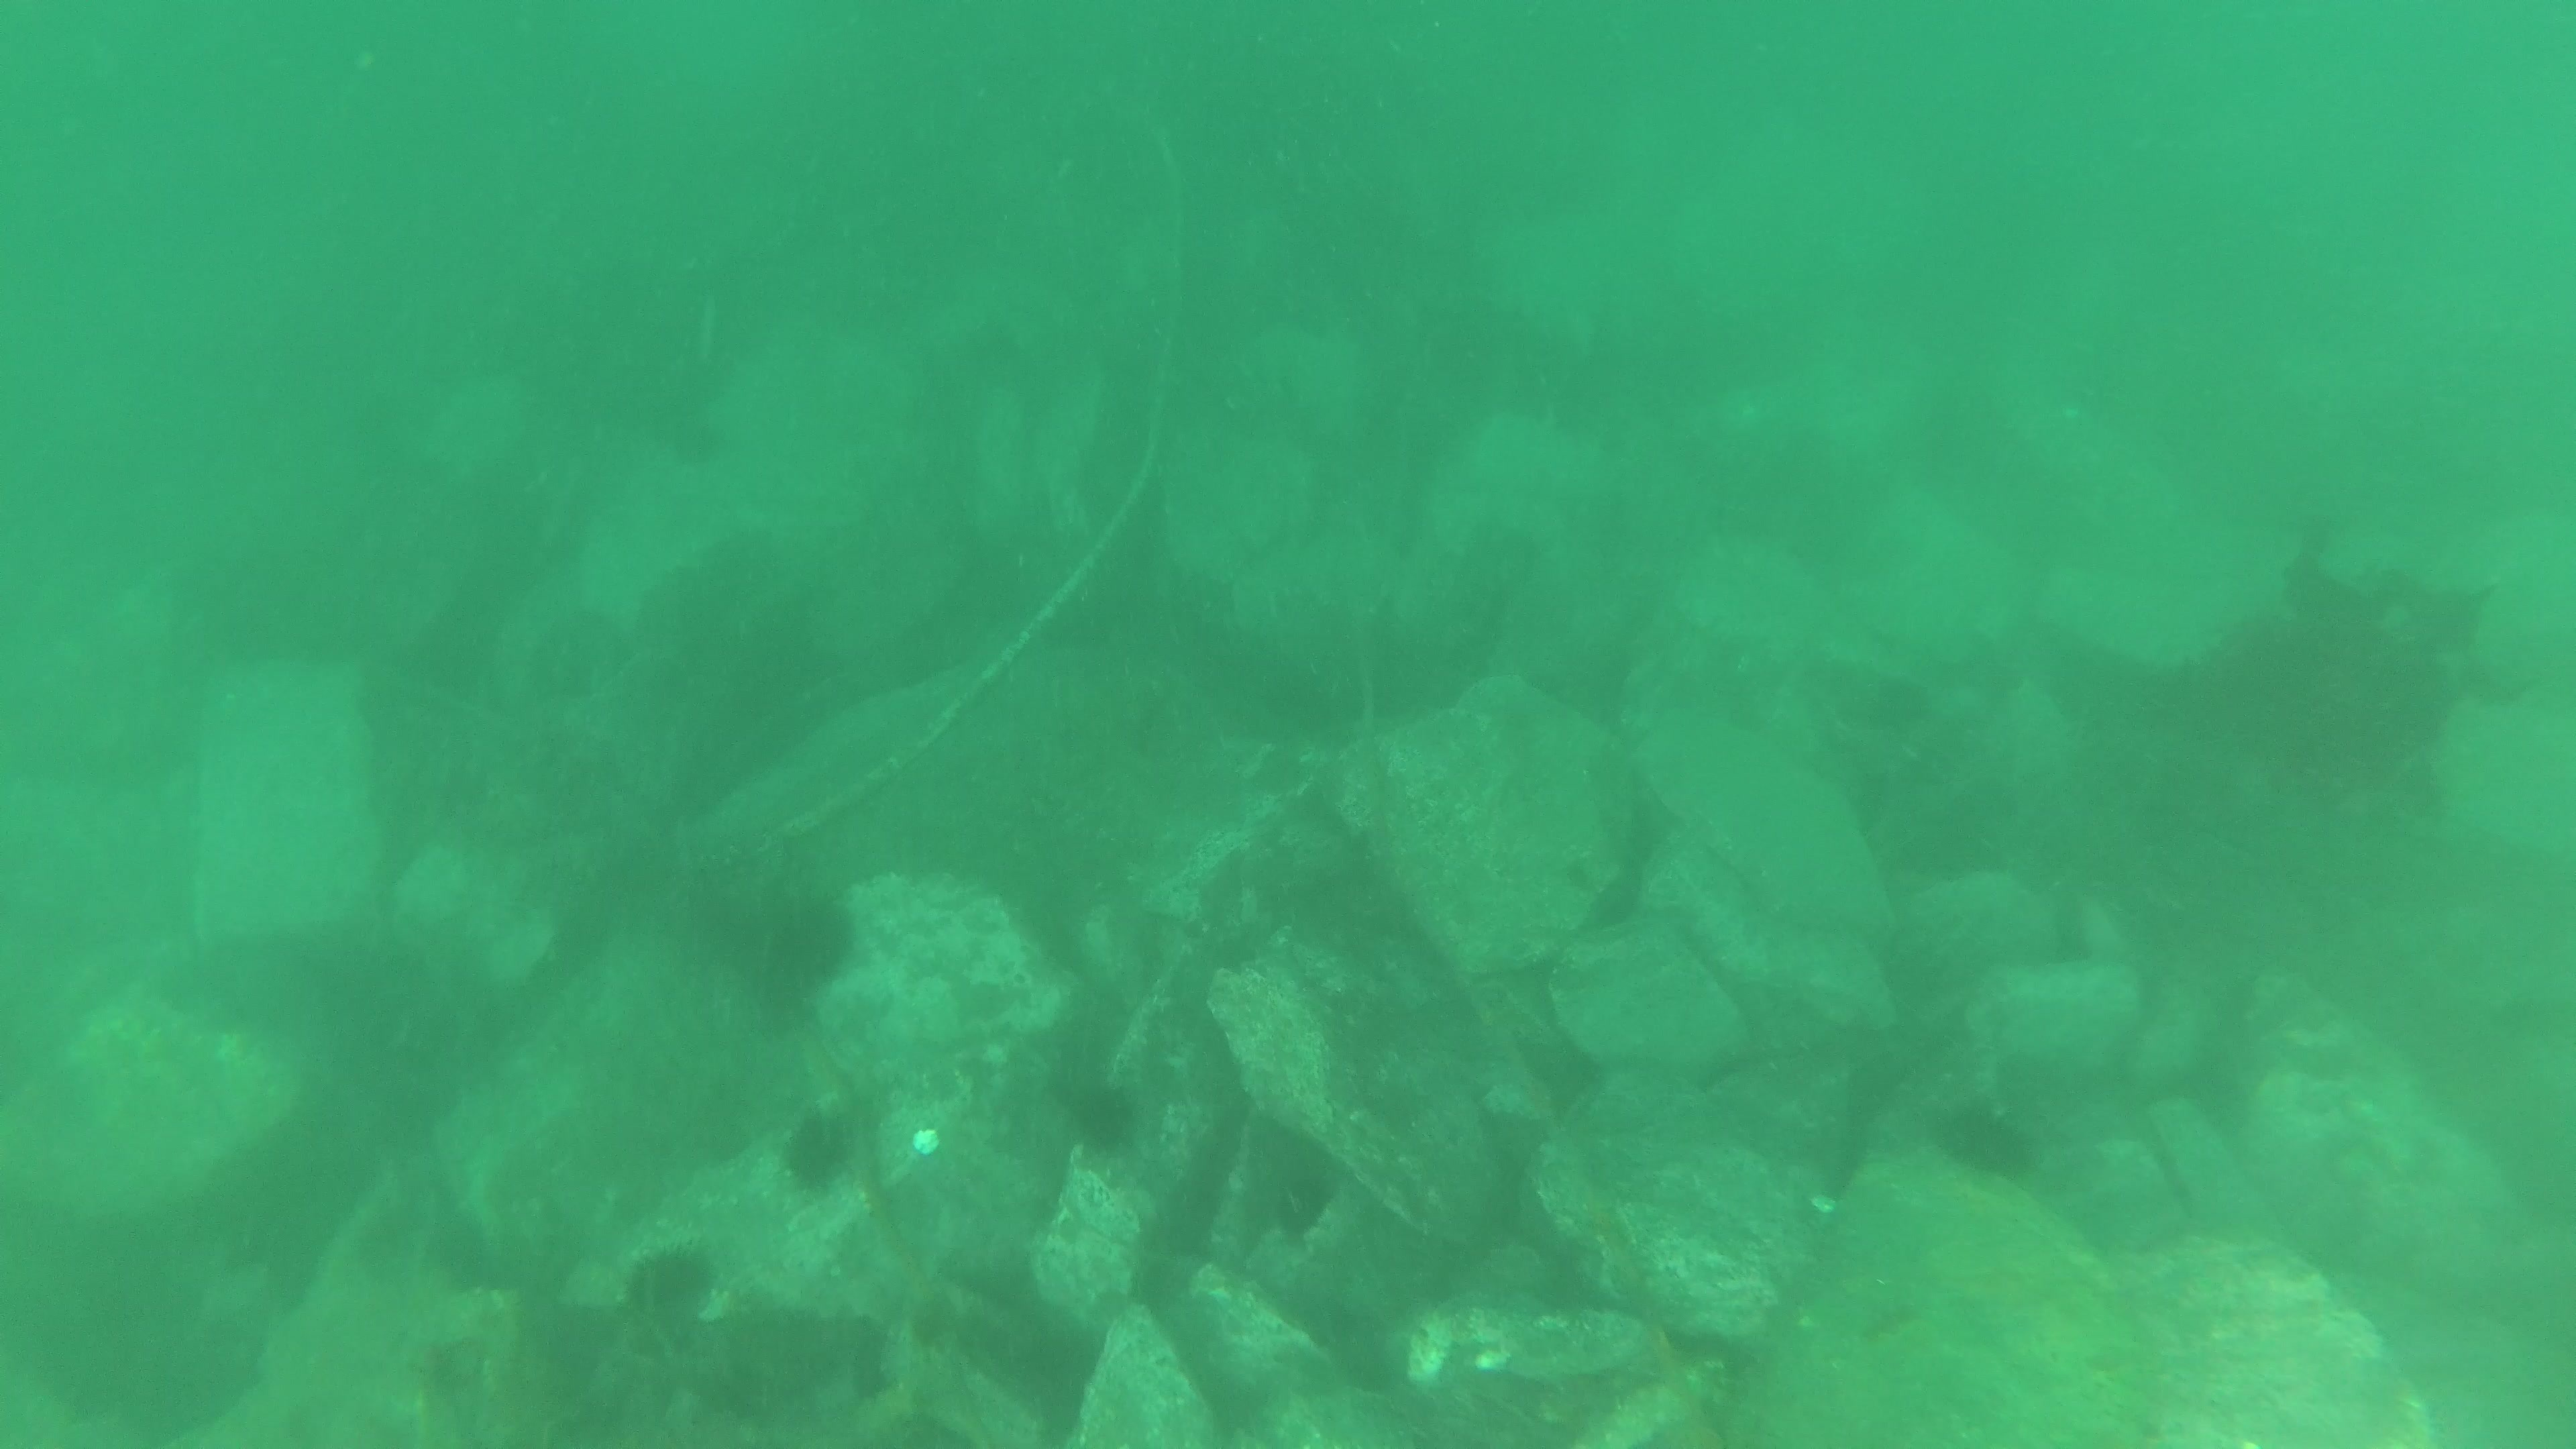echinus: (747, 883, 863, 1005), (1932, 1093, 2043, 1185), (621, 1238, 724, 1338), (775, 1102, 862, 1198), (1062, 1072, 1146, 1162)
